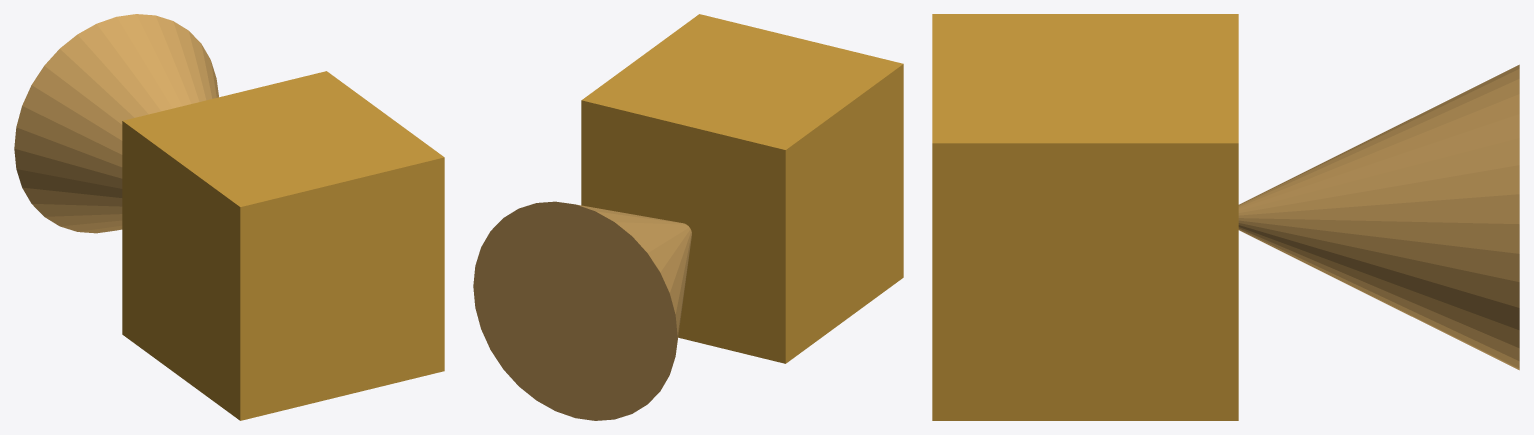
File: Taiyaki.fbx
The picture shows the model from 3 angles, left to right: view 1: azimuth 30°, elevation 25°; view 2: azimuth 150°, elevation 25°; view 3: azimuth 270°, elevation 25°; orthographic projection. The views are drawn at different scales.
Visible parts, largest first — view 1: Cube, Cone; view 2: Cube, Cone; view 3: Cube, Cone.
Boxes of the visible parts, <box> form: Cube: <box>122,71,444,420</box>; Cone: <box>14,14,218,233</box>; Cube: <box>581,14,903,363</box>; Cone: <box>473,201,691,420</box>; Cube: <box>932,14,1238,420</box>; Cone: <box>1238,64,1519,370</box>.
Bounding box in the file's own units: 200 × 200 × 383.
